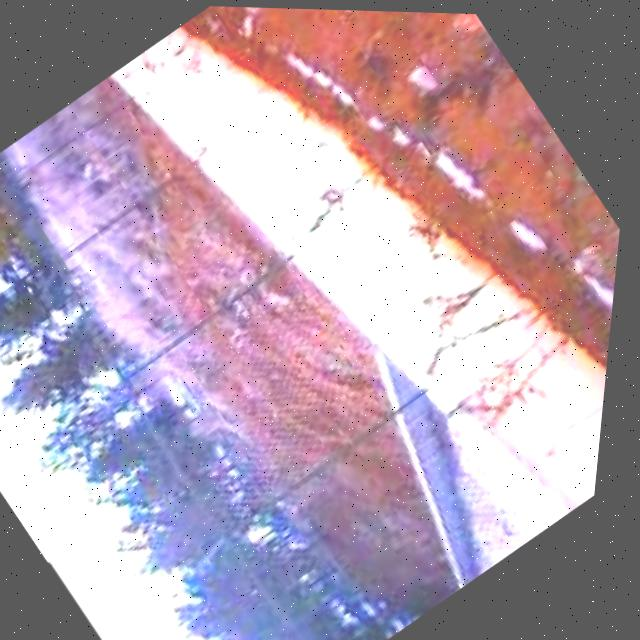Fire: (427, 10, 486, 42)
